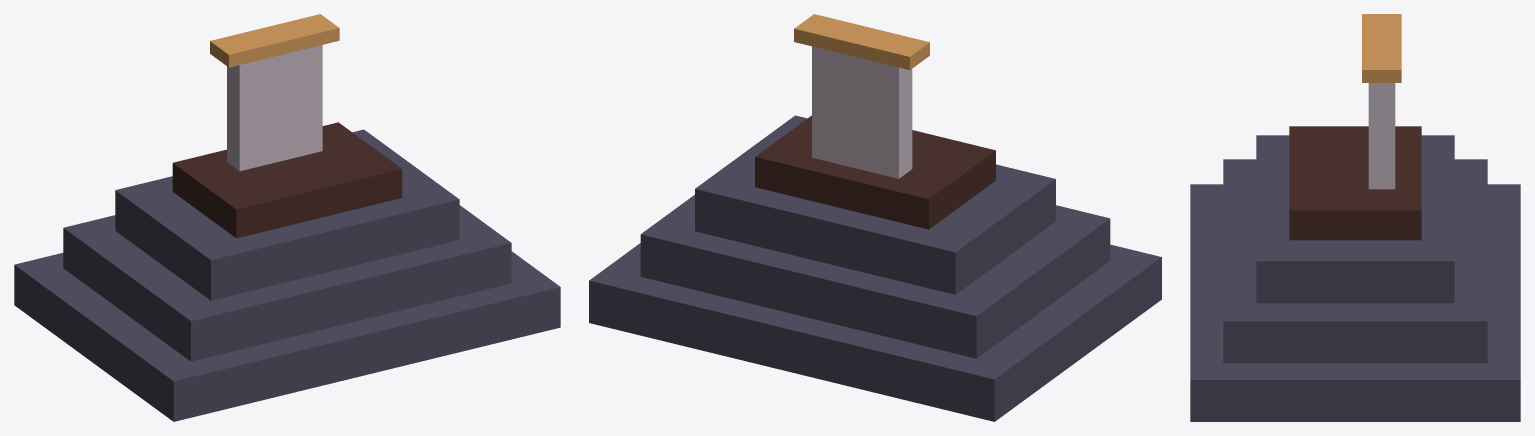
File: dojo_ritual_altar.obj
3 views of the same model, side by side, from view 1: azimuth 30°, elevation 25°; view 2: azimuth 150°, elevation 25°; view 3: azimuth 270°, elevation 25° (orthographic). The views are drawn at different scales.
Visible parts, largest first — view 1: dojo_ritual_altar_00, dojo_ritual_altar_01, dojo_ritual_altar_02, dojo_ritual_altar_03, dojo_ritual_altar_04, dojo_ritual_altar_05; view 2: dojo_ritual_altar_00, dojo_ritual_altar_01, dojo_ritual_altar_02, dojo_ritual_altar_03, dojo_ritual_altar_04, dojo_ritual_altar_05; view 3: dojo_ritual_altar_00, dojo_ritual_altar_01, dojo_ritual_altar_02, dojo_ritual_altar_03, dojo_ritual_altar_04, dojo_ritual_altar_05.
Boxes of the visible parts, x1,y1,x2,y2 form: dojo_ritual_altar_00: (14,251,560,421); dojo_ritual_altar_01: (63,205,511,361); dojo_ritual_altar_02: (115,129,459,300); dojo_ritual_altar_03: (172,122,402,238); dojo_ritual_altar_04: (227,45,322,171); dojo_ritual_altar_05: (210,14,339,67); dojo_ritual_altar_00: (589,243,1161,421); dojo_ritual_altar_01: (640,195,1110,358); dojo_ritual_altar_02: (695,115,1055,294); dojo_ritual_altar_03: (755,115,995,229); dojo_ritual_altar_04: (812,46,912,178); dojo_ritual_altar_05: (794,14,929,70); dojo_ritual_altar_00: (1190,184,1520,421); dojo_ritual_altar_01: (1223,159,1487,363); dojo_ritual_altar_02: (1256,135,1454,303); dojo_ritual_altar_03: (1289,126,1421,240); dojo_ritual_altar_04: (1368,83,1395,189); dojo_ritual_altar_05: (1362,14,1401,82).
Size of the model in its own units: 7 by 4.71 by 5.
